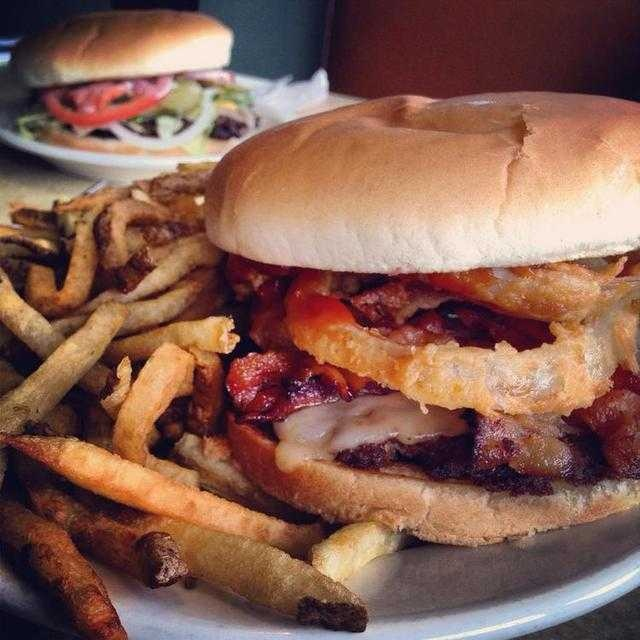hamburger: (202, 75, 638, 526)
